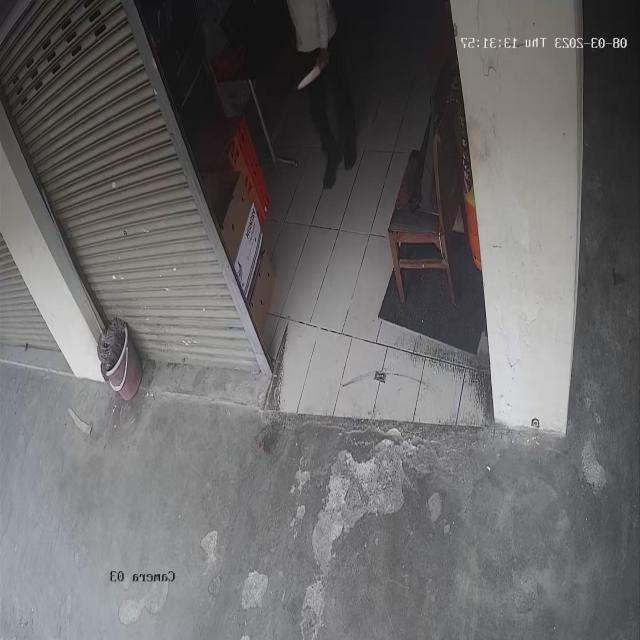Knife: (287, 52, 336, 92)
